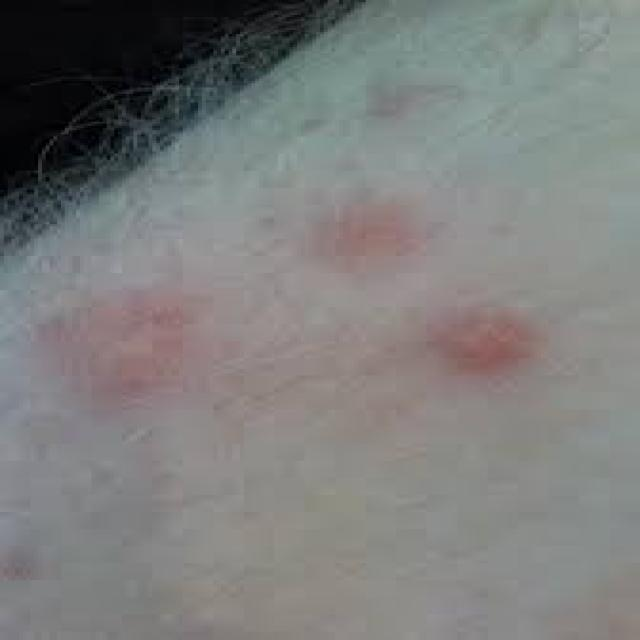tahta-kurusu: (2, 274, 256, 400), (359, 306, 629, 385), (211, 201, 538, 265)
